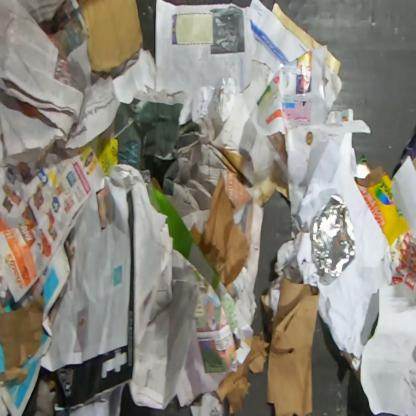cardboard: (0, 243, 72, 415), (266, 273, 321, 415), (354, 153, 411, 249), (76, 0, 144, 73)
metal: (312, 194, 356, 277)
